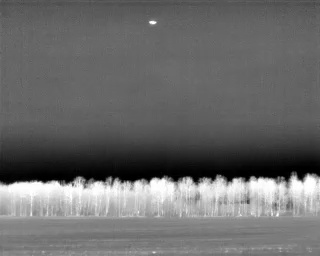DRONE: (146, 17, 160, 29)
